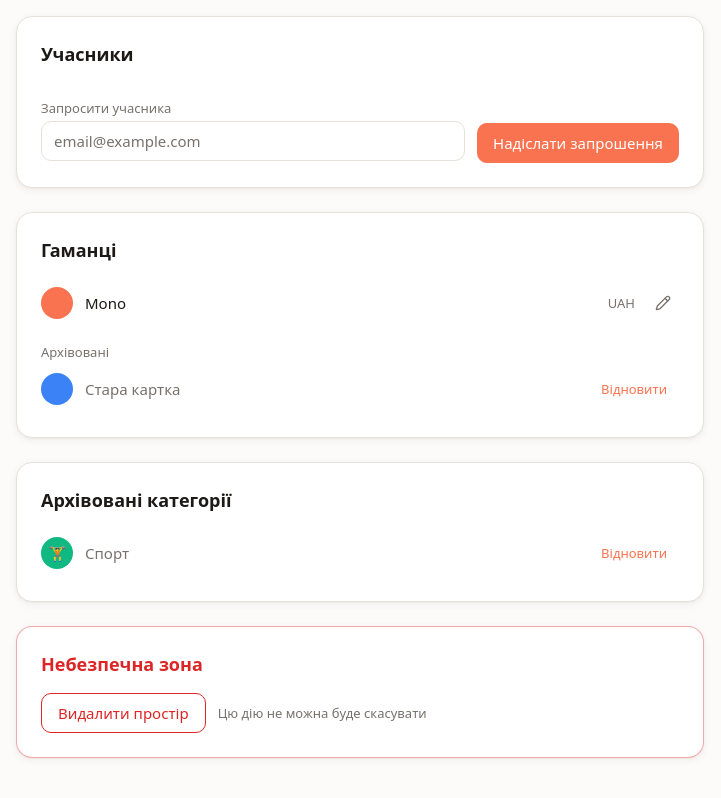
Test case: SettingsPage › says why restoring failed
(page scrolled)
Click the button with aria-label "Відновити: Спорт": (634, 553) x1=589 y1=537 x2=679 y2=569
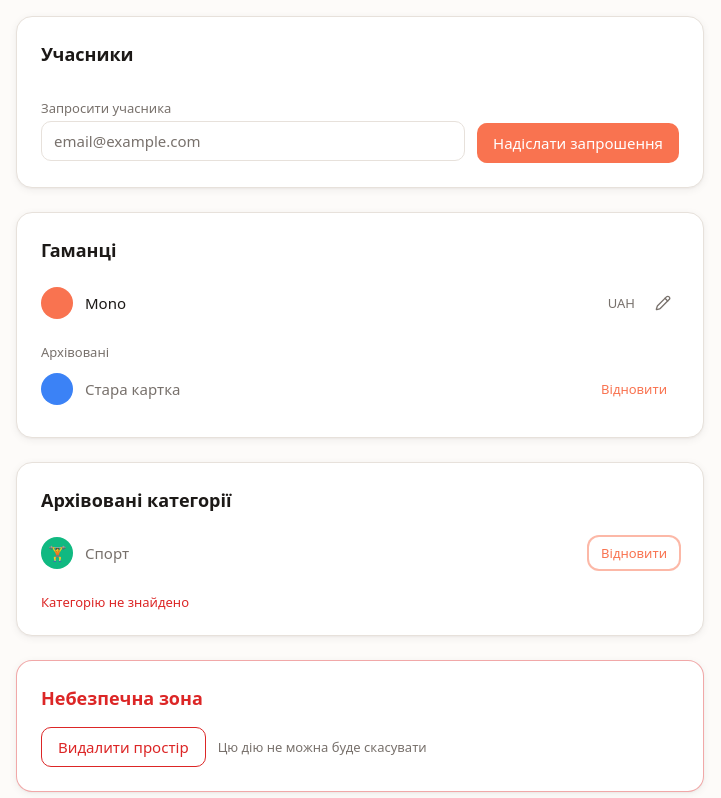
Expected: the message "Категорію не знайдено" is shown, x1=41 y1=593 x2=189 y2=611
